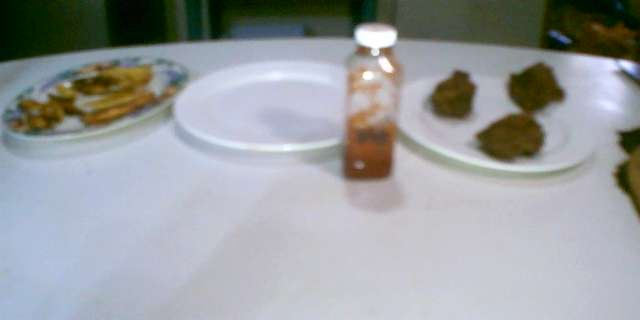chicken: (467, 111, 553, 163), (501, 56, 569, 115), (423, 65, 480, 121)
empty_plate: (170, 61, 347, 158)
ketchup_bottle: (339, 16, 405, 187)
potatoe_fries: (12, 58, 163, 134)
